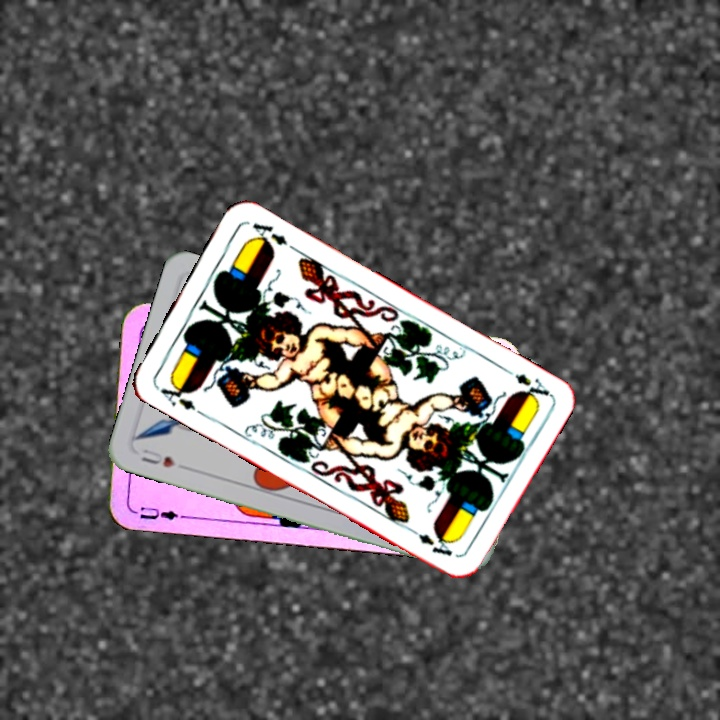EA: (498, 363, 553, 404), (156, 376, 206, 419)
EU: (128, 502, 187, 523)
HU: (136, 444, 177, 471)
